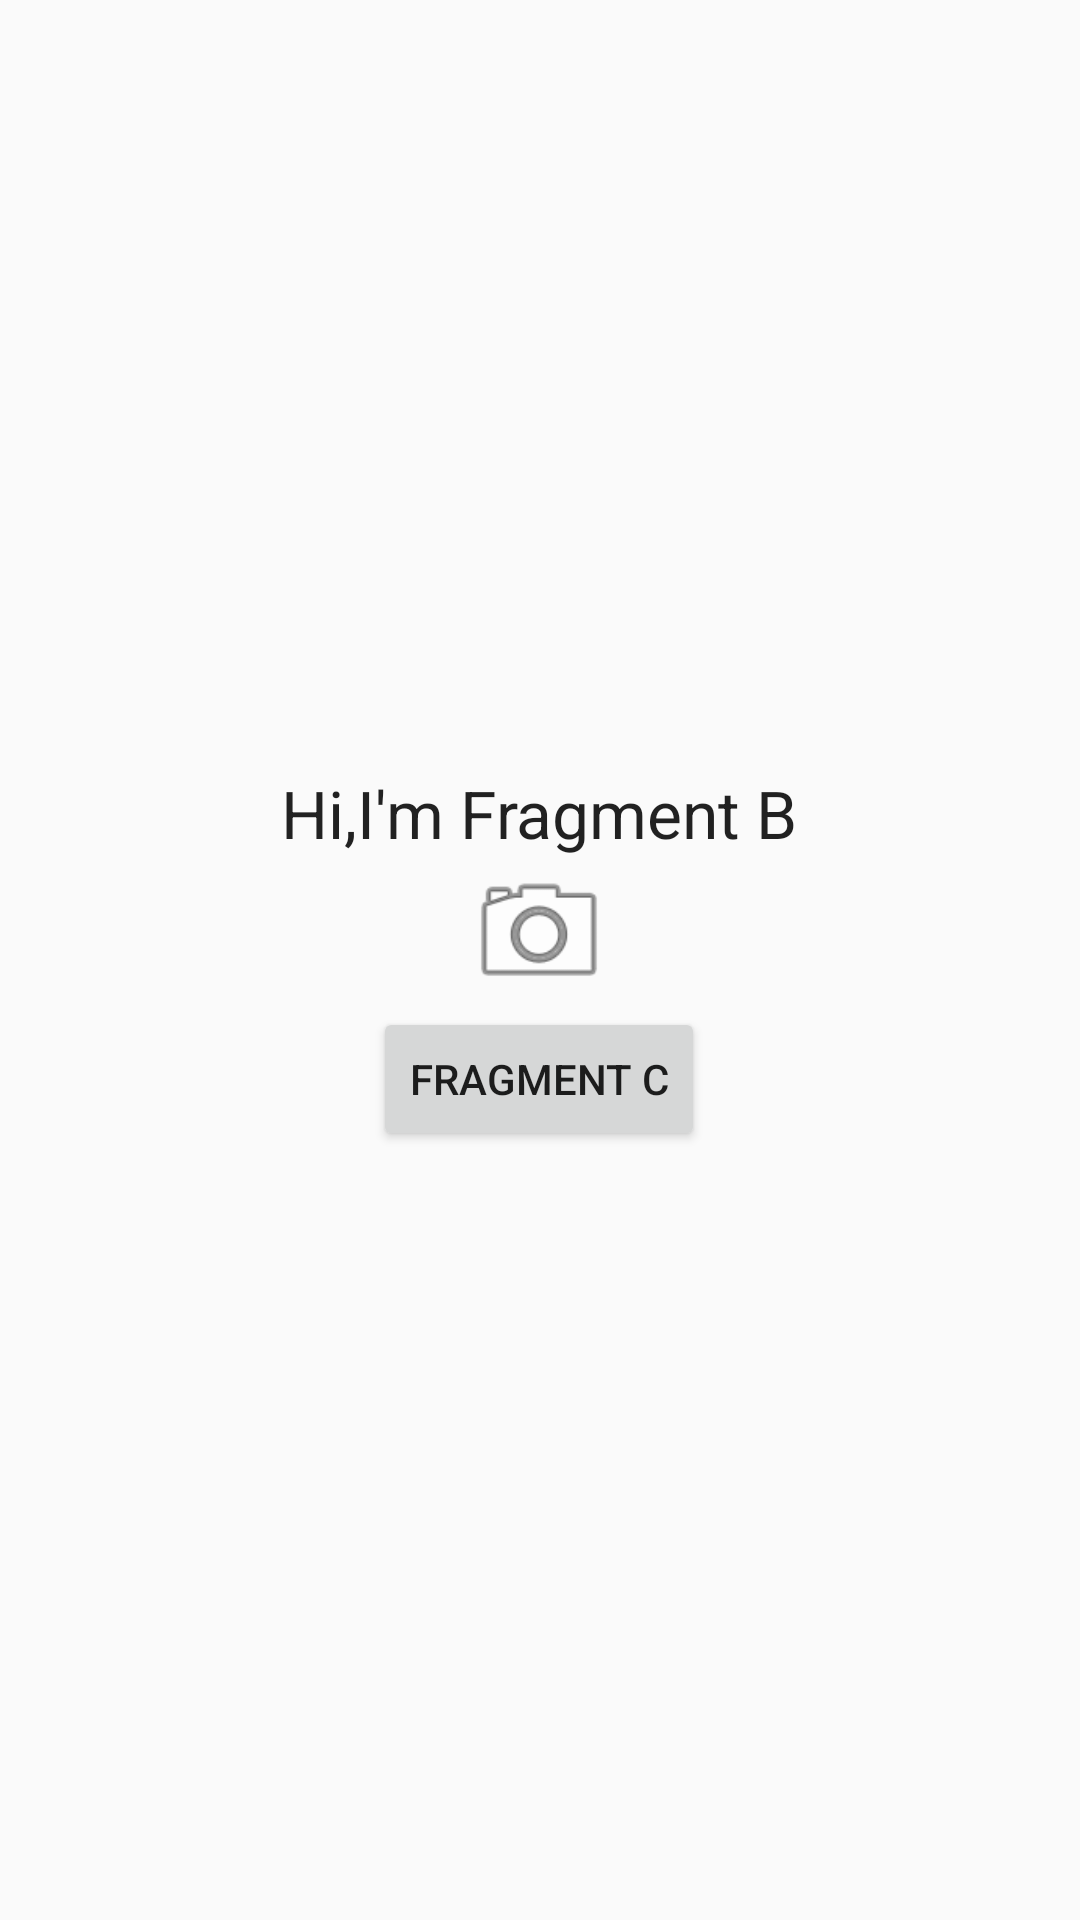

Point at icon controls on the screen. Image size 1080 × 1920, points as (x=x, y=y).
camera: (x=539, y=929)
